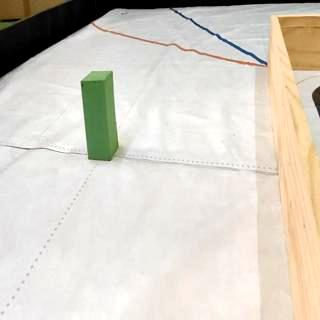greenbox: (80, 70, 117, 160)
